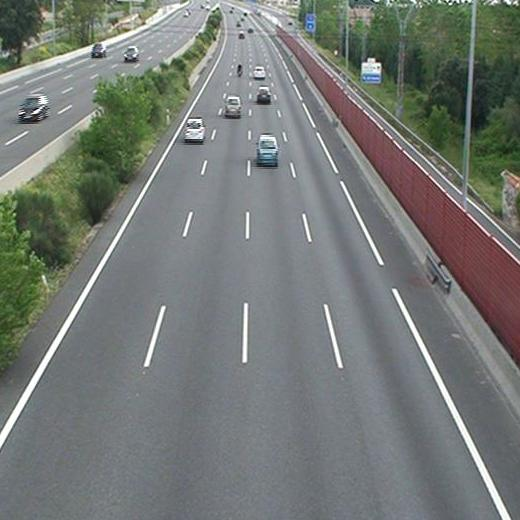car: (256, 135, 277, 163), (184, 119, 205, 140), (225, 96, 240, 116), (257, 87, 271, 102), (253, 65, 265, 79)
motorcycle: (236, 61, 243, 78)
